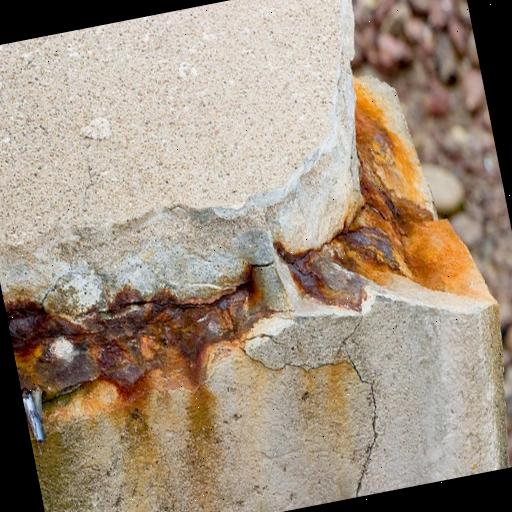spalling: (0, 77, 497, 429)
